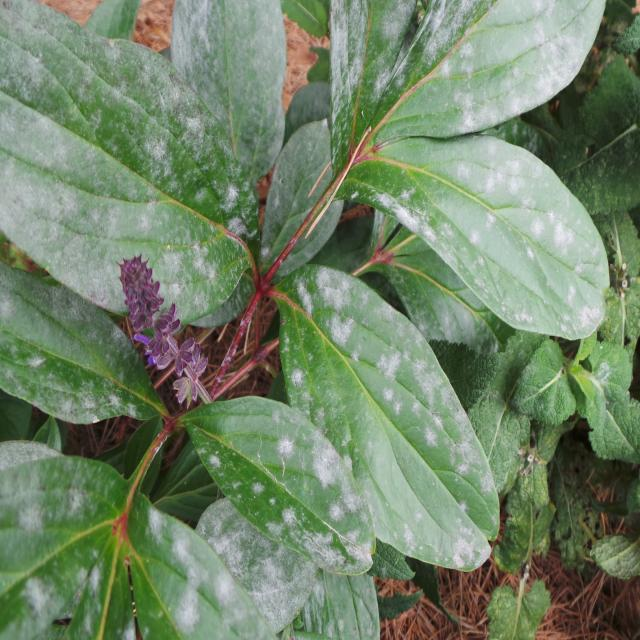Powdery Mildew: (2, 1, 623, 637), (279, 264, 500, 572), (366, 133, 610, 341), (192, 400, 376, 635)
